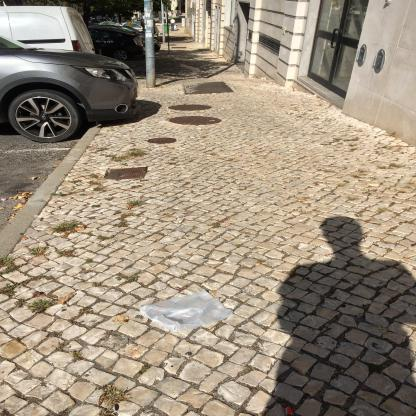plastik: (140, 291, 234, 334)
